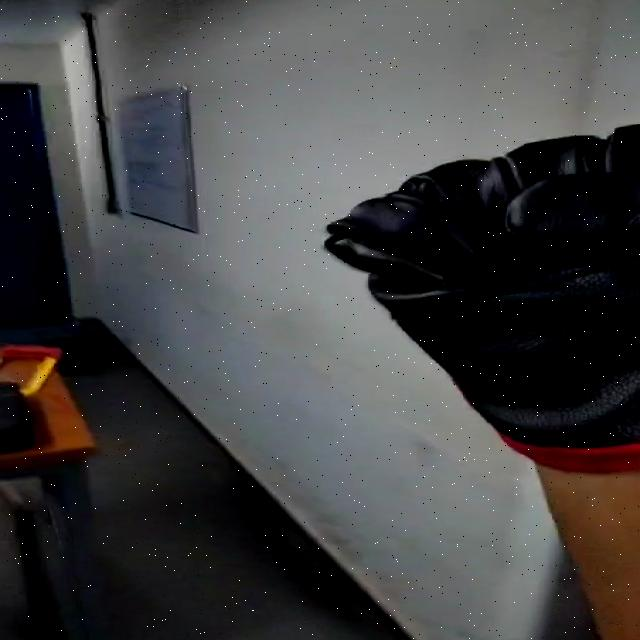Gloves: (331, 118, 640, 472)
